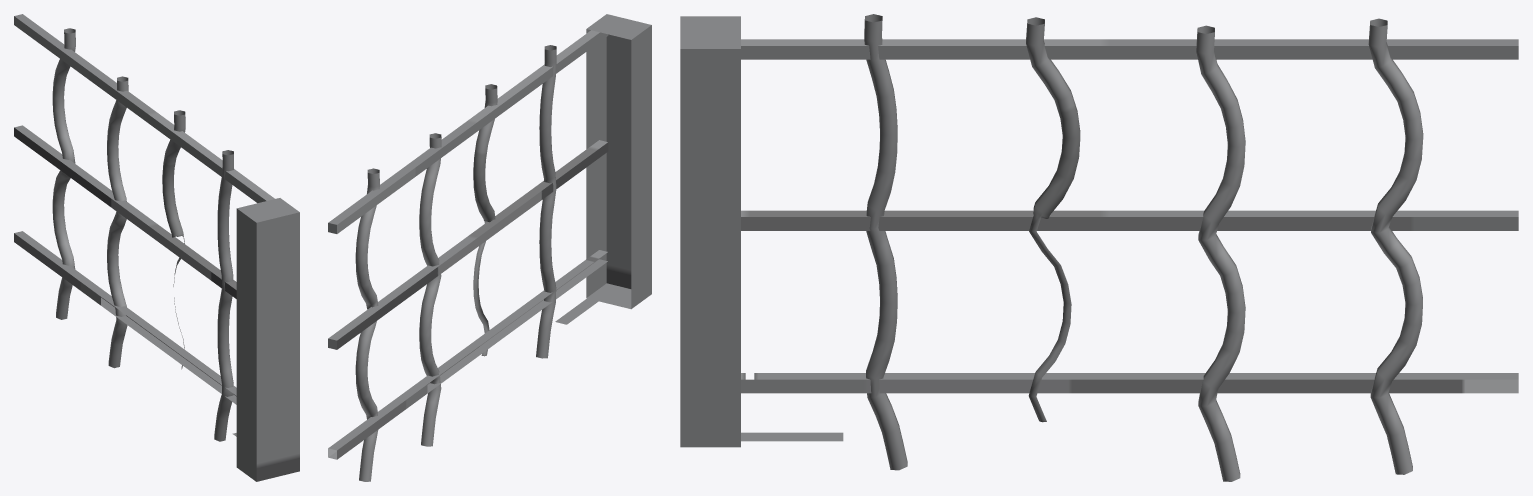
3 renders of one model, left to right at view 1: azimuth 30°, elevation 25°; view 2: azimuth 150°, elevation 25°; view 3: azimuth 270°, elevation 25°, orthographic. The views are drawn at different scales.
Bounding box in the file's own units: 0.1618 × 0.9976 × 1.65.
